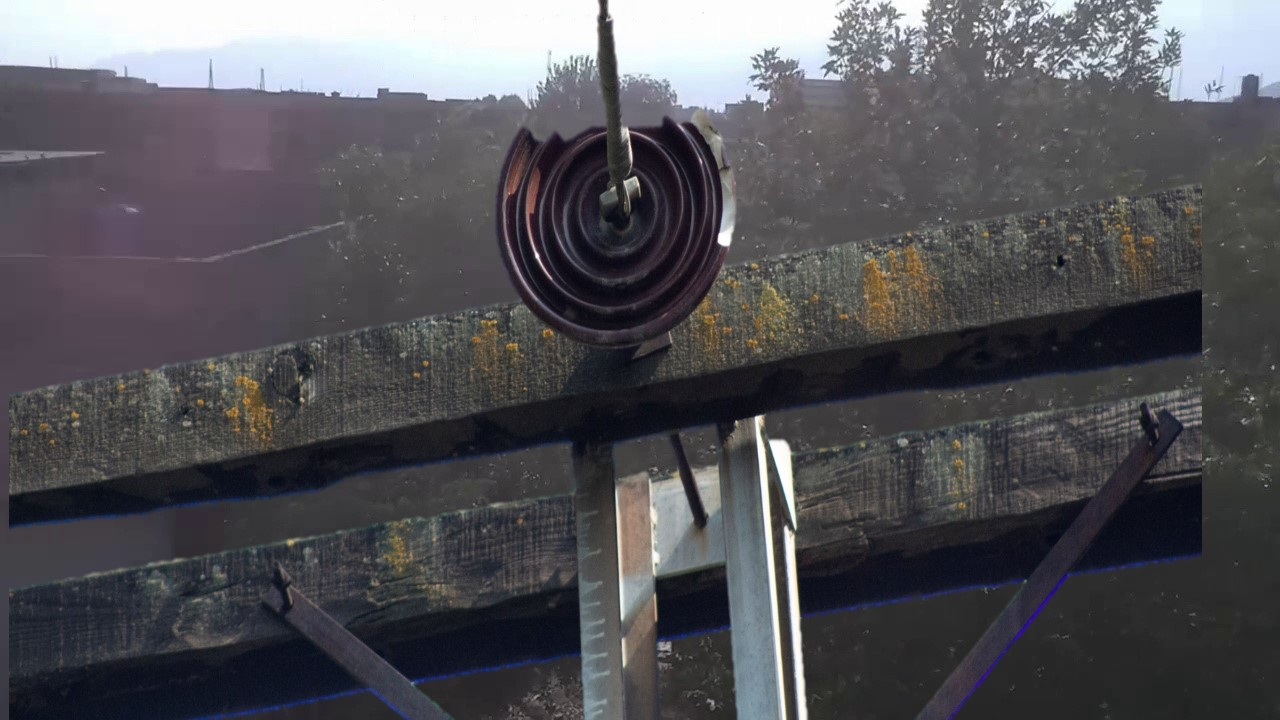defect_disc: (491, 104, 744, 357)
